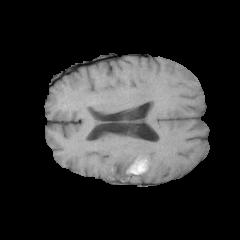glioma: (83, 138, 150, 181)
